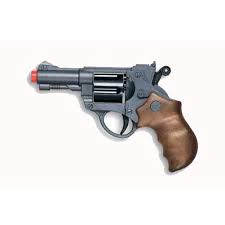Arma Falsa: (30, 60, 208, 157)
